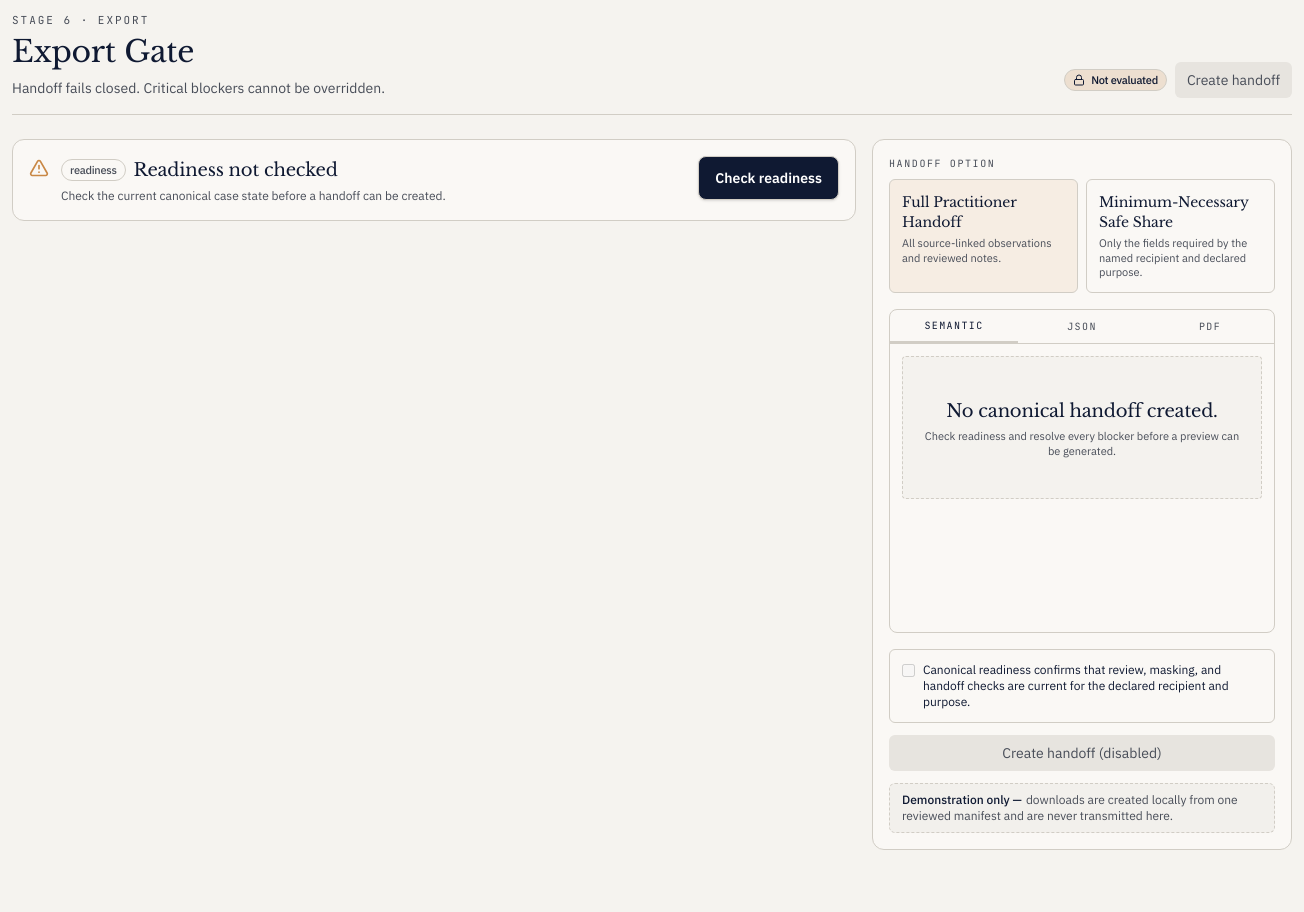
Test case: TASK-022 export gate and workspace › opens the blocked gate, focuses it, names exactly the two early blockers, and exposes no bypass
Click the button "Check readiness": (769, 178) [698,156,839,200]
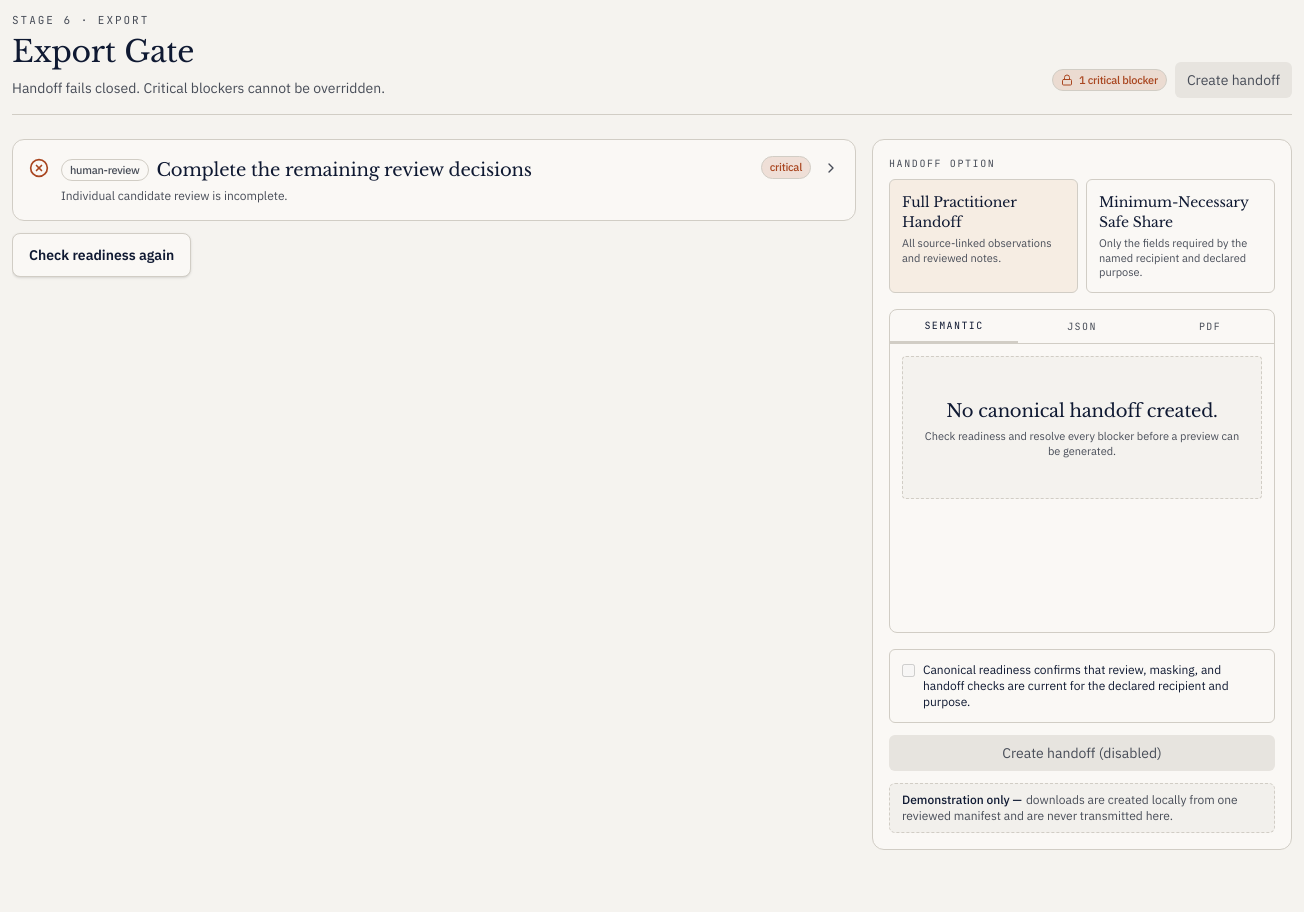
Check: the heading "Complete the remaining review decisions" is shown, box [156,156,532,184]
Check: the element "Complete the remaining review decisions" is shown, box [12,139,856,221]
